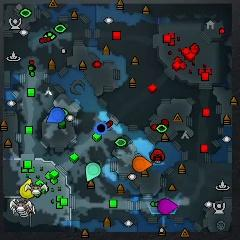p1: (46, 106, 66, 123)
p1Clone: (95, 122, 108, 134)
p2: (85, 162, 100, 181)
p3: (157, 199, 178, 214)
p4: (20, 179, 35, 198)
p5: (132, 155, 153, 172)
